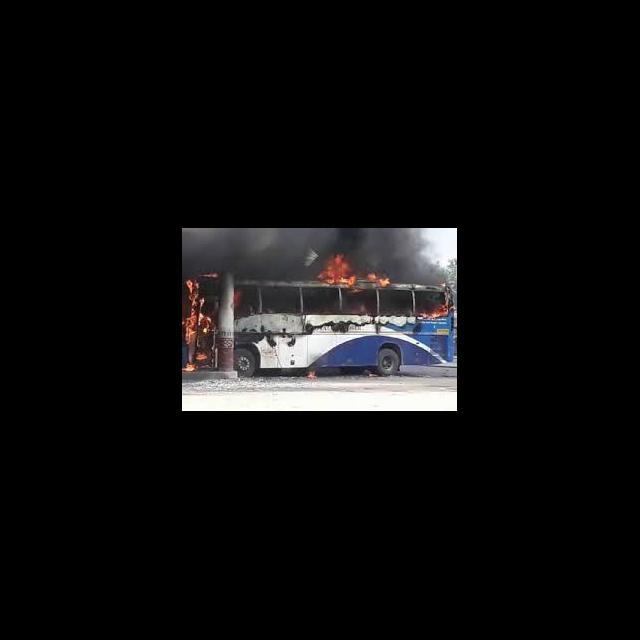Fire: (185, 278, 208, 372), (319, 250, 357, 289), (419, 302, 449, 321), (366, 271, 396, 288)
Smoke: (184, 230, 317, 276), (364, 230, 452, 268)
